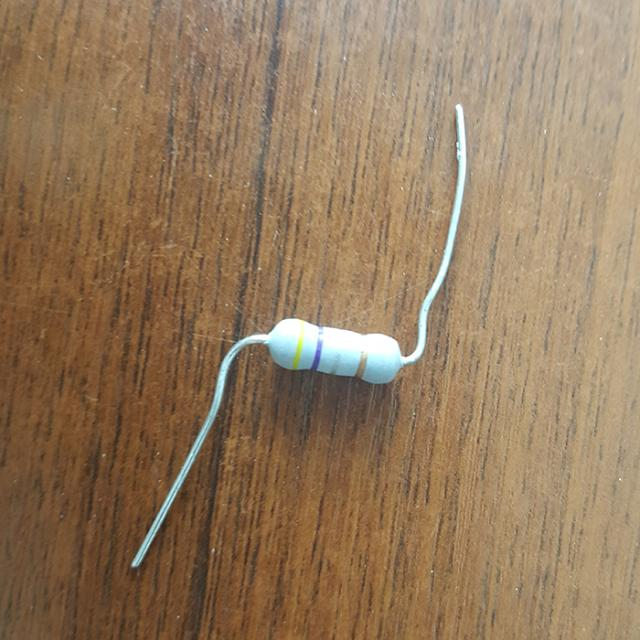Resistor Carbon-Film: (265, 316, 412, 389)
